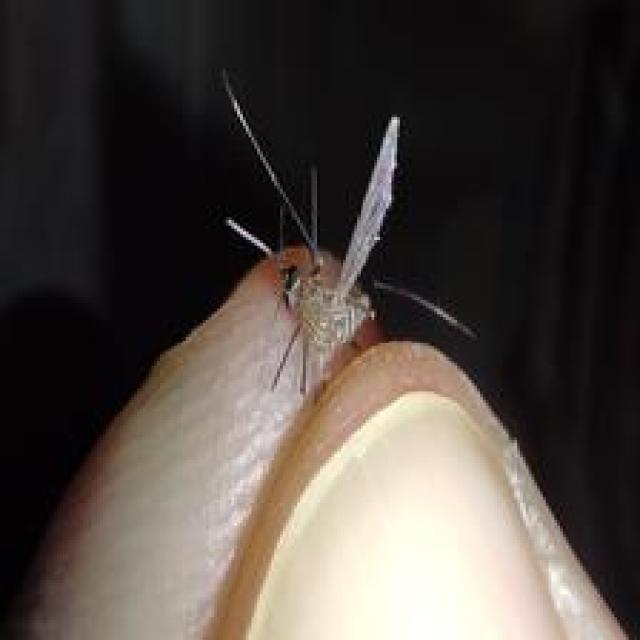Culex: (217, 66, 477, 397)
